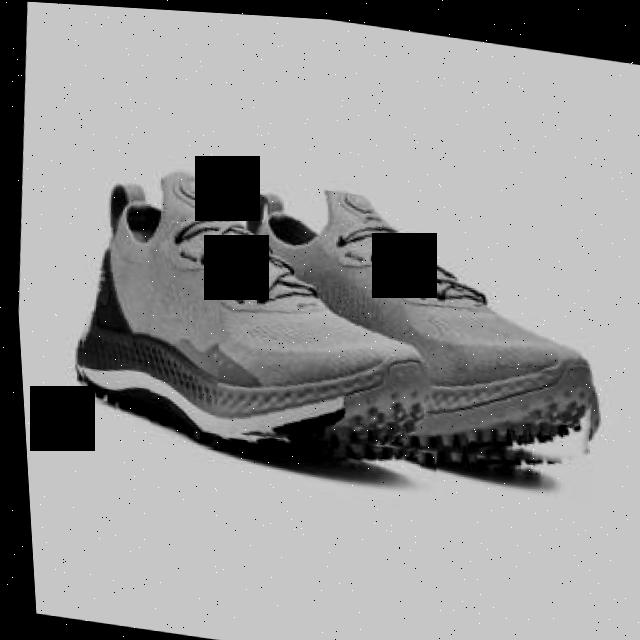shoe: (199, 171, 613, 482), (57, 153, 454, 477)
